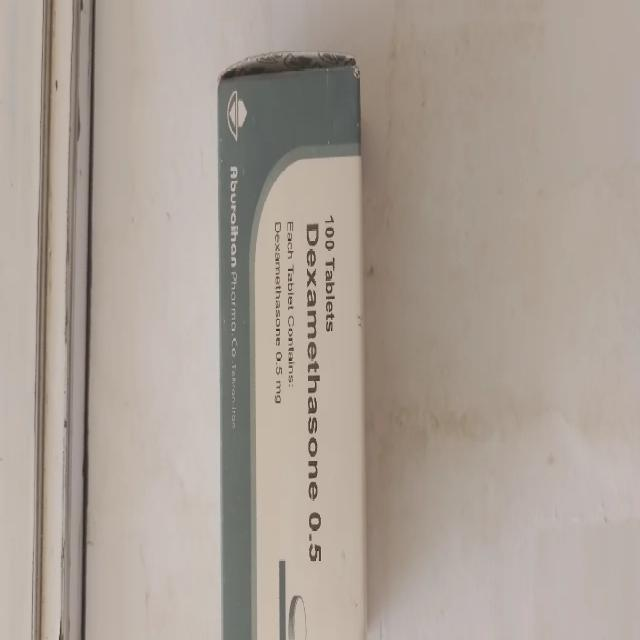drug-name: (306, 217, 324, 566)
